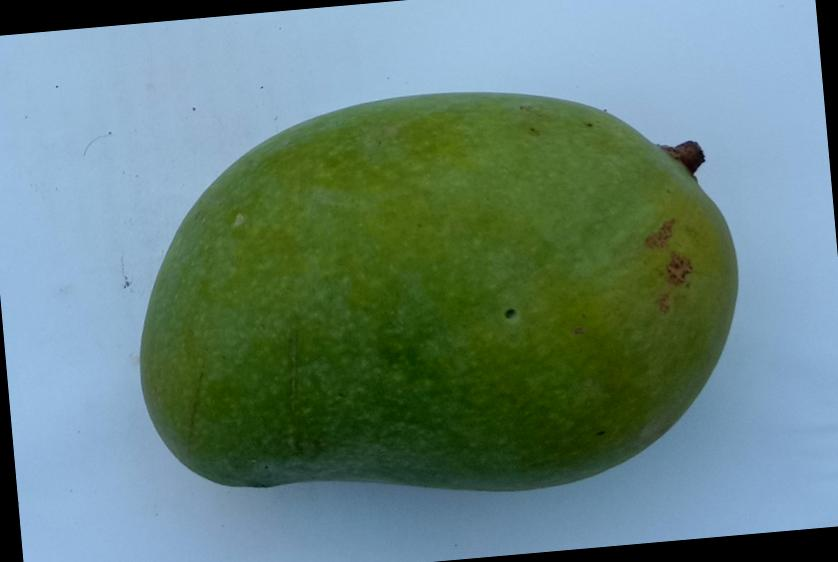Mango Unripe: (72, 42, 786, 549)
